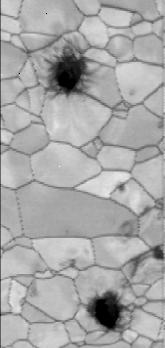good_void: (44, 34, 99, 107), (84, 292, 121, 315), (127, 253, 148, 284), (114, 217, 135, 244), (64, 256, 80, 272), (136, 204, 153, 219), (27, 280, 38, 300), (151, 116, 165, 131), (124, 87, 138, 101), (21, 48, 35, 61), (152, 248, 165, 262), (116, 181, 125, 194), (63, 229, 69, 235)
